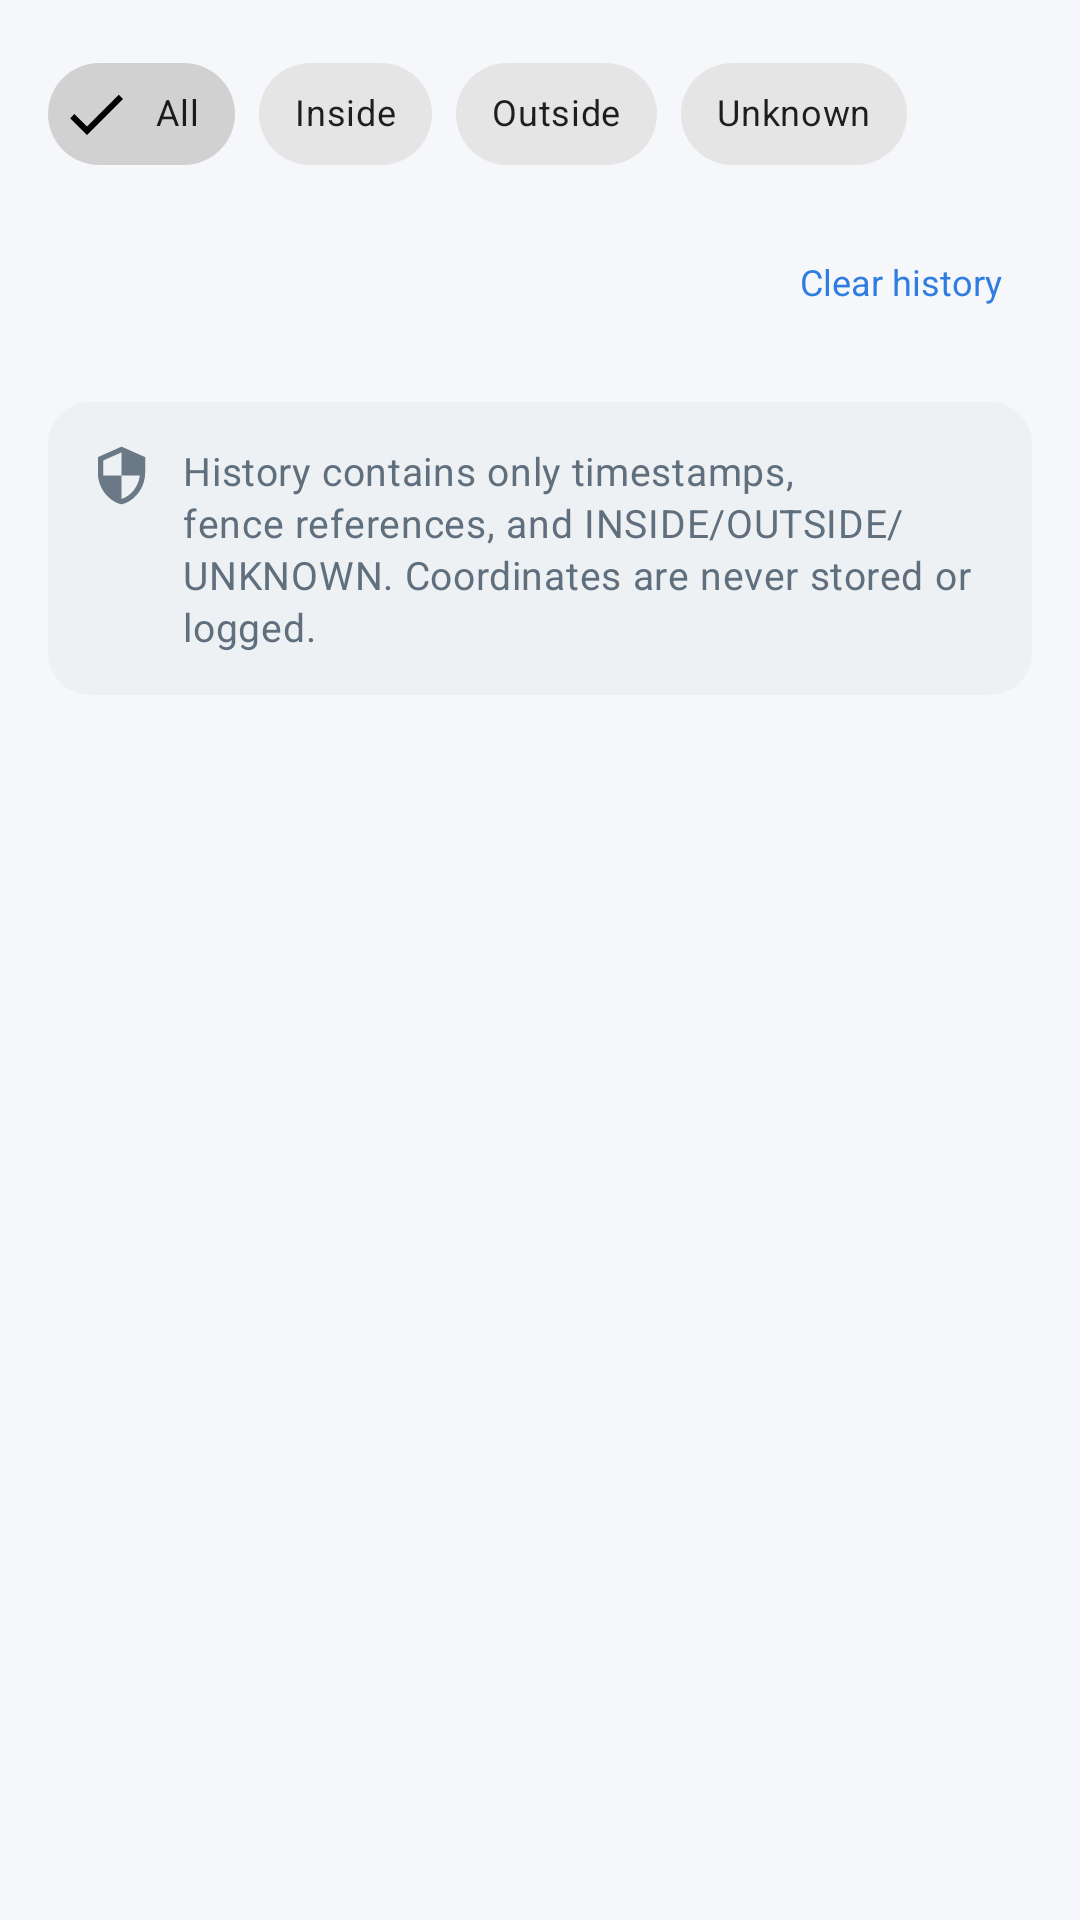

Where to tap for icons on this 1080x1920 app screen, as point (x, y):
shield: point (122, 475)
